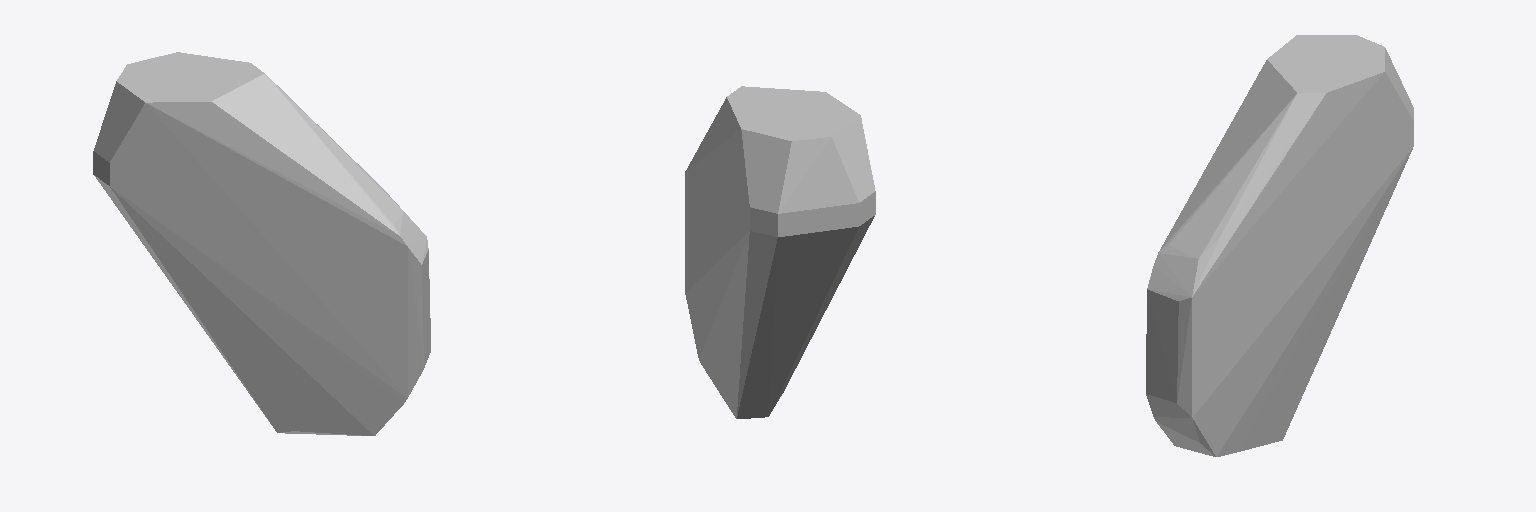
Rendered from raw_model_collision_6.obj.
3 renders of one model, left to right at view 1: azimuth 30°, elevation 25°; view 2: azimuth 150°, elevation 25°; view 3: azimuth 270°, elevation 25°, orthographic.
Bounding box in the file's own units: 0.1892 × 0.2446 × 0.1733.